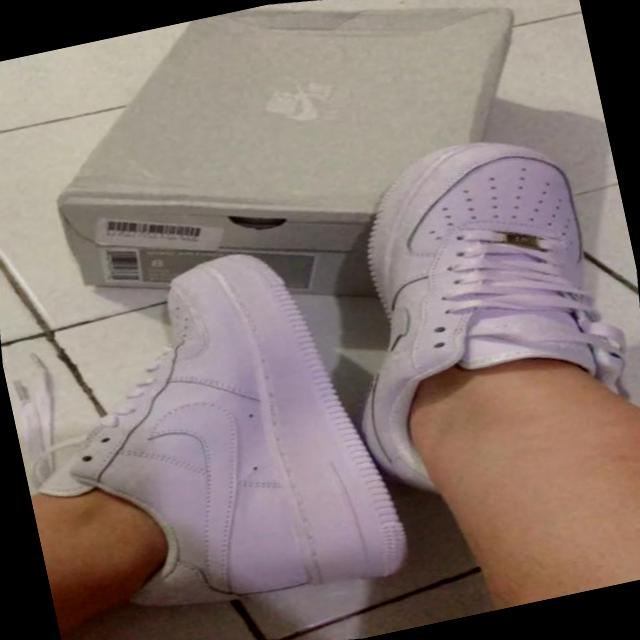nike_fake_airforce: (297, 97, 640, 536)
